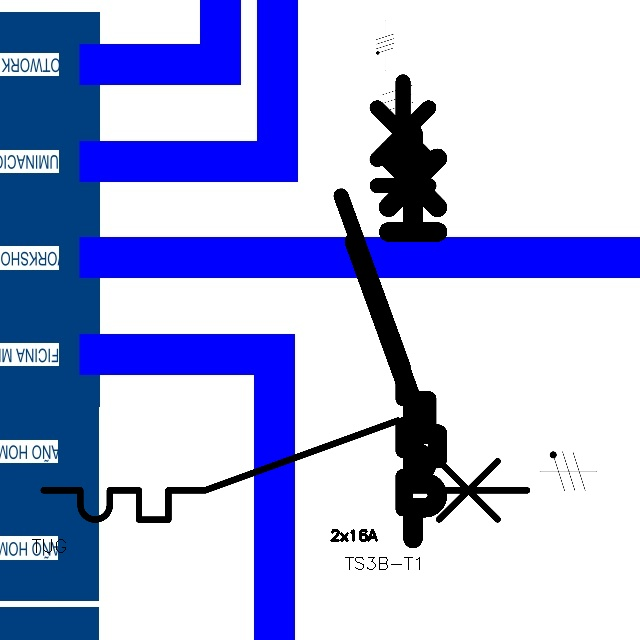interruptor_termomagnetico: (31, 408, 539, 532), (330, 70, 440, 519), (344, 123, 448, 549)
